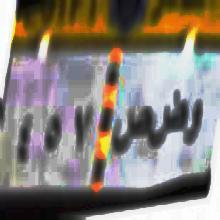4: (17, 107, 40, 174)
5: (44, 104, 62, 162)
7: (71, 94, 97, 164)
daad: (151, 88, 186, 159)
saad: (112, 104, 150, 157)
waw: (187, 100, 206, 146)
